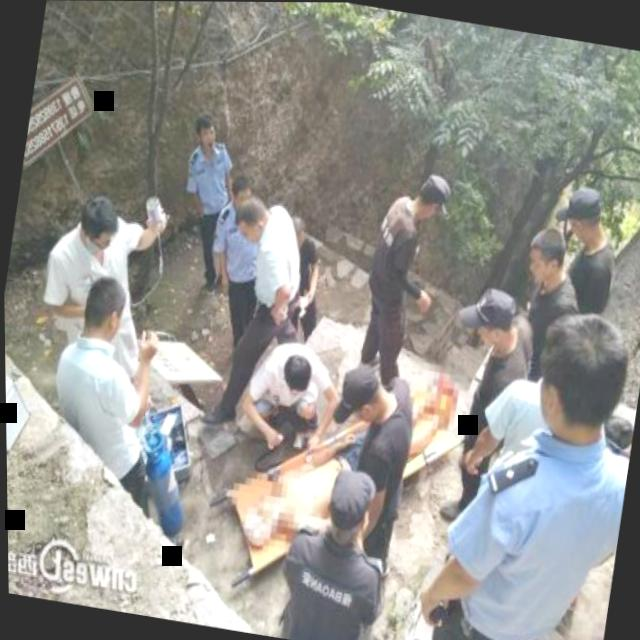Fall-Detected: (222, 387, 420, 585)
